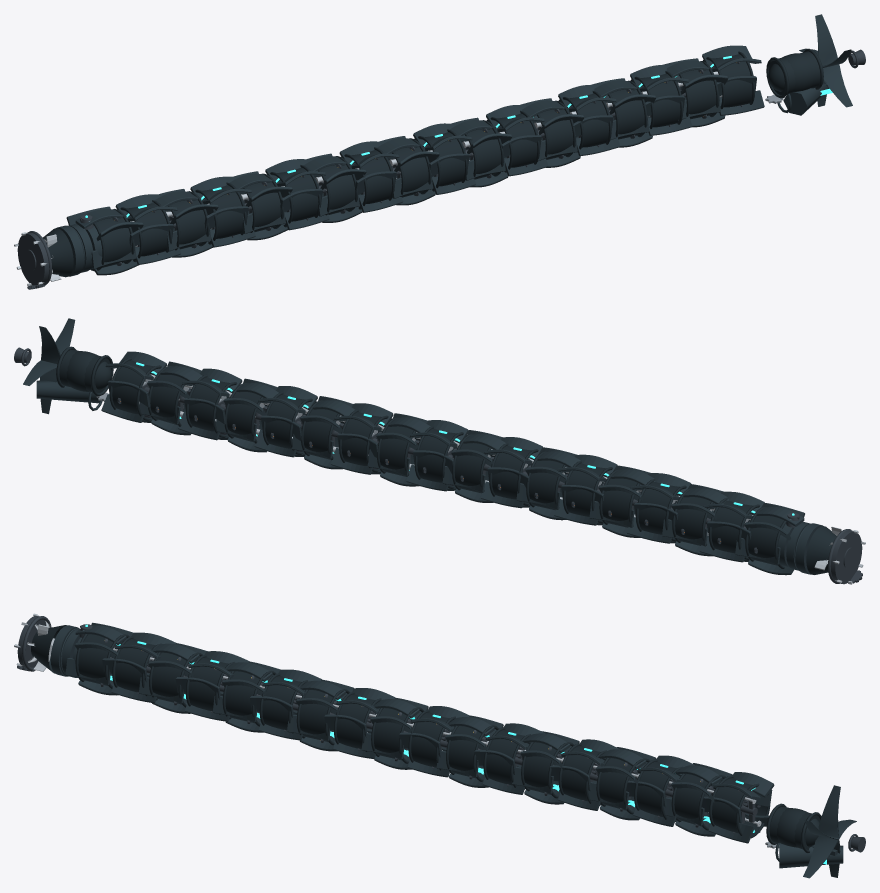
The model's file is 02-abyss-salvager-export.glb.
3 renders of one model, top to bottom at view 1: azimuth 30°, elevation 25°; view 2: azimuth 150°, elevation 25°; view 3: azimuth 330°, elevation 25°, orthographic.
Parts seen in each view (by area): view 1: tail, head, segment-17, segment-0, segment-1, segment-5, segment-3, segment-15, segment-13, segment-7, segment-9, segment-11 (+8 smaller); view 2: tail, head, segment-17, segment-15, segment-13, segment-11, segment-9, segment-0, segment-7, segment-5, segment-1, segment-3 (+8 smaller); view 3: tail, segment-17, head, segment-12, segment-14, segment-10, segment-16, segment-8, segment-0, segment-6, segment-4, segment-2 (+8 smaller).
Part boxes in pixels (<box>): tail: <box>765,14,865,115</box>; head: <box>14,215,102,289</box>; segment-17: <box>702,45,764,115</box>; segment-0: <box>66,206,143,275</box>; segment-1: <box>115,194,180,264</box>; segment-5: <box>265,159,329,230</box>; segment-3: <box>190,176,255,247</box>; segment-15: <box>630,65,691,135</box>; segment-13: <box>558,85,620,156</box>; segment-7: <box>339,141,403,212</box>; segment-9: <box>413,123,475,194</box>; segment-11: <box>486,105,548,176</box>; tail: <box>14,318,113,414</box>; head: <box>778,513,865,584</box>; segment-17: <box>101,351,167,422</box>; segment-15: <box>178,368,242,440</box>; segment-13: <box>254,386,317,457</box>; segment-11: <box>331,403,393,474</box>; segment-9: <box>406,420,468,491</box>; segment-0: <box>735,503,804,575</box>; segment-7: <box>480,437,543,508</box>; segment-5: <box>554,454,617,525</box>; segment-1: <box>699,491,764,562</box>; segment-3: <box>626,473,691,543</box>; tail: <box>765,785,865,878</box>; segment-17: <box>700,772,774,843</box>; head: <box>14,613,92,677</box>; segment-12: <box>512,731,579,804</box>; segment-14: <box>588,747,656,820</box>; segment-10: <box>436,715,503,787</box>; segment-16: <box>663,763,732,836</box>; segment-8: <box>361,697,428,769</box>; segment-0: <box>65,622,132,695</box>; segment-6: <box>287,679,354,751</box>; segment-4: <box>212,661,280,732</box>; segment-2: <box>139,643,207,713</box>.
Size of the model in its own units: 22.68 by 2.3 by 2.23.
